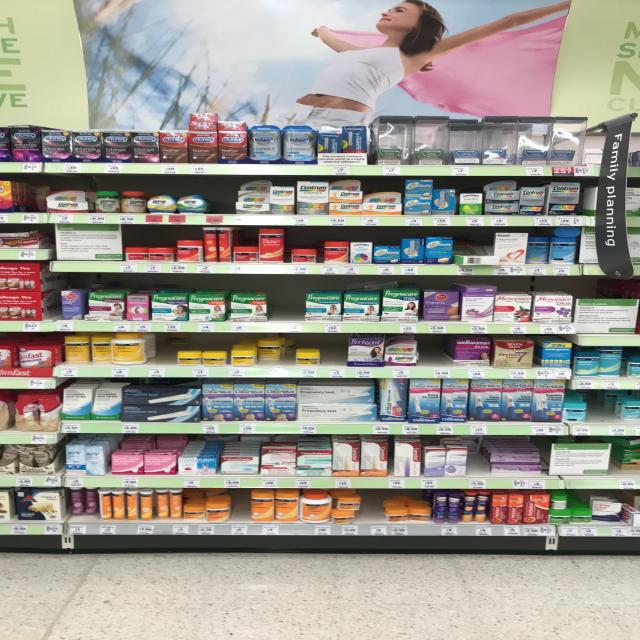100- O.O.S: (269, 278, 302, 332), (421, 334, 449, 378), (210, 179, 235, 224), (322, 336, 348, 378), (588, 398, 614, 435), (363, 490, 381, 535), (232, 490, 250, 534), (468, 451, 488, 489), (157, 343, 176, 377)
